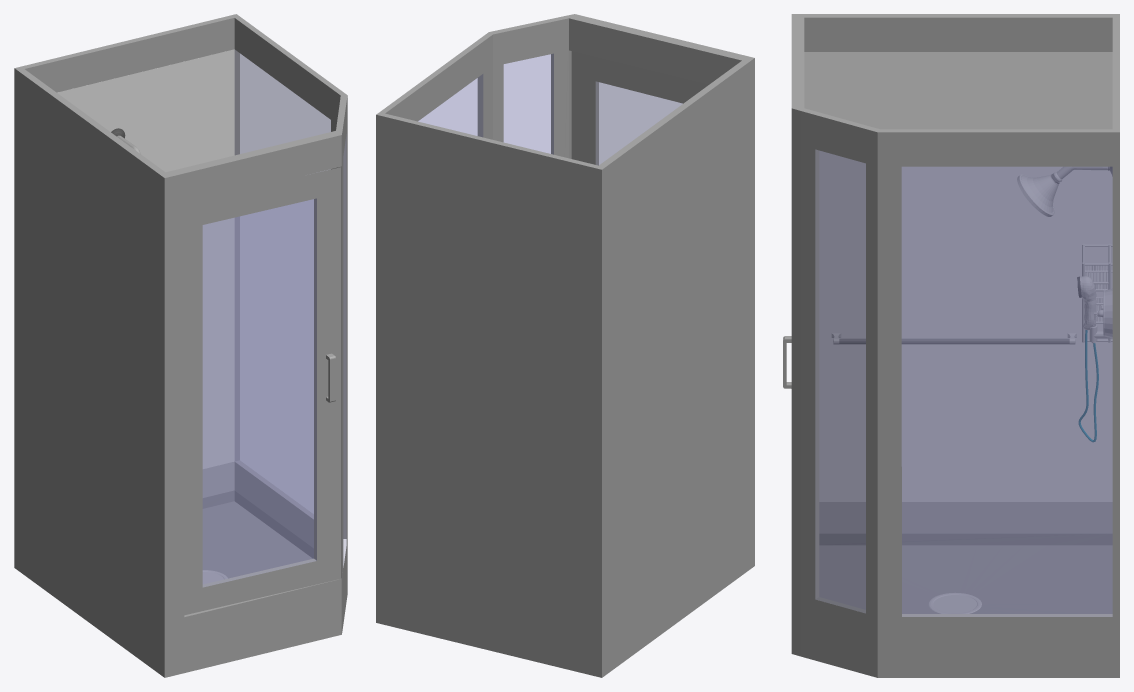
File: b0-showerstall.glb
3 renders of one model, left to right at view 1: azimuth 30°, elevation 25°; view 2: azimuth 150°, elevation 25°; view 3: azimuth 270°, elevation 25°, orthographic. The views are drawn at different scales.
Visible parts, largest first — view 1: Shower_stall_ED_Cube.096, Shower_stall_door_ED_Cube.097, Tiles_Cube.002; view 2: Shower_stall_ED_Cube.096, Shower_stall_door_ED_Cube.097; view 3: Shower_stall_ED_Cube.096, Tiles_Cube.002, Shower_spray_head_ED_Tee_Joint.002, Shower_faucet_ED_Cylinder.028.
Part boxes in pixels (box(x1,y1,x2,y2)): Shower_stall_ED_Cube.096: box(14, 14, 347, 677); Shower_stall_door_ED_Cube.097: box(184, 167, 341, 615); Tiles_Cube.002: box(57, 49, 234, 468); Shower_stall_ED_Cube.096: box(376, 14, 754, 677); Shower_stall_door_ED_Cube.097: box(571, 51, 708, 165); Shower_stall_ED_Cube.096: box(791, 14, 1119, 677); Tiles_Cube.002: box(804, 52, 1112, 501); Shower_spray_head_ED_Tee_Joint.002: box(1077, 276, 1098, 442); Shower_faucet_ED_Cylinder.028: box(1094, 289, 1112, 337).
Size of the model in its own units: 0.9306 by 2 by 1.12.
